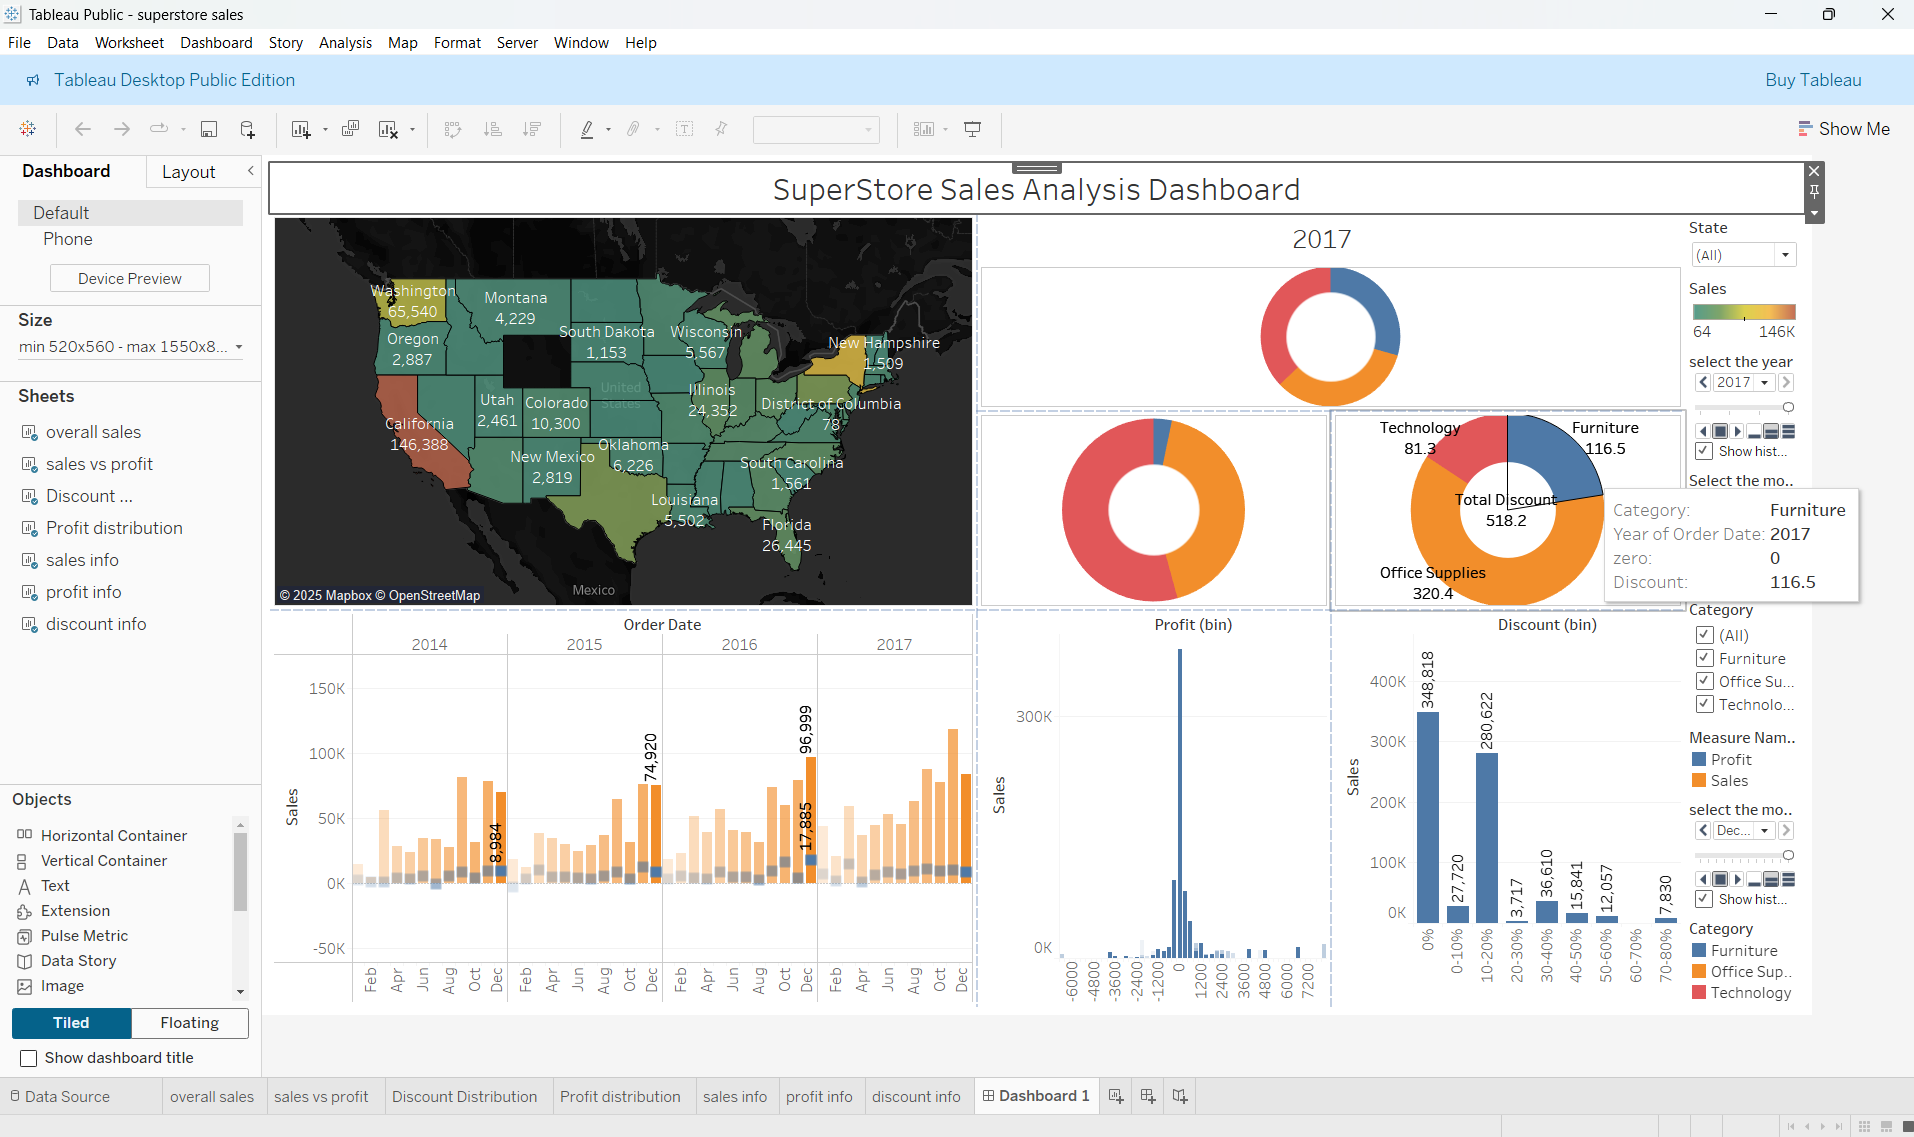

This screenshot's page, from the dashboard's own definition file:
{"tool":"tableau","page":{"name":"Dashboard 1","canvas":[1000,1000],"units":"permille","ordinal":0},"visuals":[{"type":"title","box":[5.2,9.3,989.7,58.1]},{"type":"worksheet","title":"overall sales","mark":"Automatic","box":[5.2,67.4,456.4,461.6]},{"type":"worksheet","title":"sales info","mark":"Circle","rows":["Calculation_804174026818105344","Calculation_804174026818105344"],"box":[461.6,67.4,456.5,230.8]},{"type":"filter","title":"overall sales","param":"[federated.1734mq20cq7ecu187pyns1hl3ct4].[none:State:nk]","box":[918.1,67.4,76.8,70.9]},{"type":"legend","title":"overall sales","param":"[federated.1734mq20cq7ecu187pyns1hl3ct4].[sum:Sales:qk]","box":[918.1,138.4,76.8,84.9]},{"type":"currpage","title":"overall sales","box":[918.1,223.2,76.8,138.4]},{"type":"worksheet","title":"profit info","mark":"Circle","rows":["Calculation_804174026818105344","Calculation_804174026818105344"],"box":[461.6,298.2,228.2,230.8]},{"type":"worksheet","title":"discount info","mark":"Circle","rows":["Calculation_804174026818105344","Calculation_804174026818105344"],"box":[689.8,298.2,228.2,230.8]},{"type":"filter","title":"sales vs profit ","param":"[federated.1734mq20cq7ecu187pyns1hl3ct4].[yr:Order Date:ok]","box":[918.1,361.6,76.8,150]},{"type":"filter","title":"sales vs profit ","param":"[federated.1734mq20cq7ecu187pyns1hl3ct4].[none:Category:nk]","box":[918.1,511.6,76.8,148.8]},{"type":"worksheet","title":"sales vs profit ","mark":"Automatic","rows":["Sales","Profit"],"cols":["Order Date","Order Date"],"box":[5.2,529.1,456.4,461.6]},{"type":"worksheet","title":"Profit distribution","mark":"Bar","rows":["Sales"],"cols":["Profit (bin)"],"box":[461.6,529.1,228.2,461.6]},{"type":"worksheet","title":"Discount Distribution","mark":"Automatic","rows":["Sales"],"cols":["Discount (bin)"],"box":[689.8,529.1,228.2,461.6]},{"type":"legend","title":"sales vs profit ","param":"[federated.1734mq20cq7ecu187pyns1hl3ct4].[:Measure Names]","box":[918.1,660.5,76.8,83.7]},{"type":"currpage","title":"sales vs profit ","box":[918.1,744.2,76.8,138.4]},{"type":"legend","title":"sales info","param":"[federated.1734mq20cq7ecu187pyns1hl3ct4].[none:Category:nk]","box":[918.1,882.6,76.8,108.1]}]}

Visuals, with their boxes on the dashboard's canvas, which has no fixed pixel size, in thousandths of its width and height (x1, y1, x2, y2). These are canvas units, not pixel positions in the 1914x1137 screenshot, which may show the page scaled, cropped or inside an application window:
title: {"x1": 5, "y1": 9, "x2": 995, "y2": 67}
"overall sales" worksheet: {"x1": 5, "y1": 67, "x2": 462, "y2": 529}
"sales info" worksheet (Circle marks): {"x1": 462, "y1": 67, "x2": 918, "y2": 298}
"overall sales" filter: {"x1": 918, "y1": 67, "x2": 995, "y2": 138}
"overall sales" legend: {"x1": 918, "y1": 138, "x2": 995, "y2": 223}
"overall sales" currpage: {"x1": 918, "y1": 223, "x2": 995, "y2": 362}
"profit info" worksheet (Circle marks): {"x1": 462, "y1": 298, "x2": 690, "y2": 529}
"discount info" worksheet (Circle marks): {"x1": 690, "y1": 298, "x2": 918, "y2": 529}
"sales vs profit " filter: {"x1": 918, "y1": 362, "x2": 995, "y2": 512}
"sales vs profit " filter: {"x1": 918, "y1": 512, "x2": 995, "y2": 660}
"sales vs profit " worksheet: {"x1": 5, "y1": 529, "x2": 462, "y2": 991}
"Profit distribution" worksheet (Bar marks): {"x1": 462, "y1": 529, "x2": 690, "y2": 991}
"Discount Distribution" worksheet: {"x1": 690, "y1": 529, "x2": 918, "y2": 991}
"sales vs profit " legend: {"x1": 918, "y1": 660, "x2": 995, "y2": 744}
"sales vs profit " currpage: {"x1": 918, "y1": 744, "x2": 995, "y2": 883}
"sales info" legend: {"x1": 918, "y1": 883, "x2": 995, "y2": 991}
